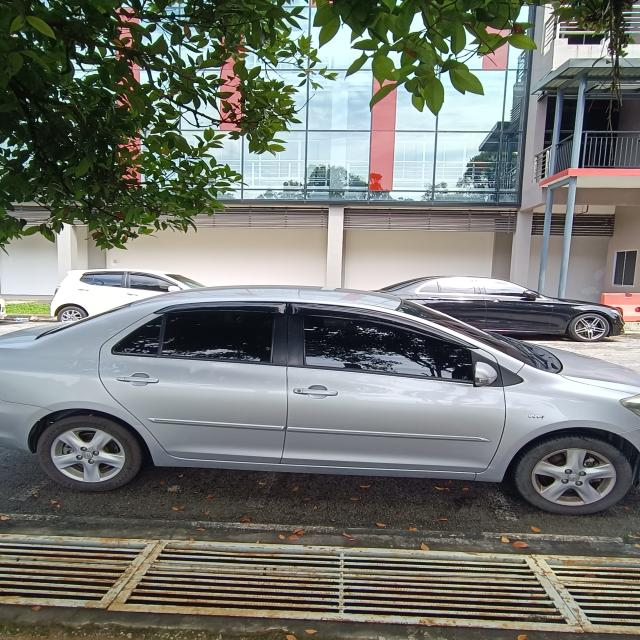ToyotaVios: (1, 283, 639, 515)
